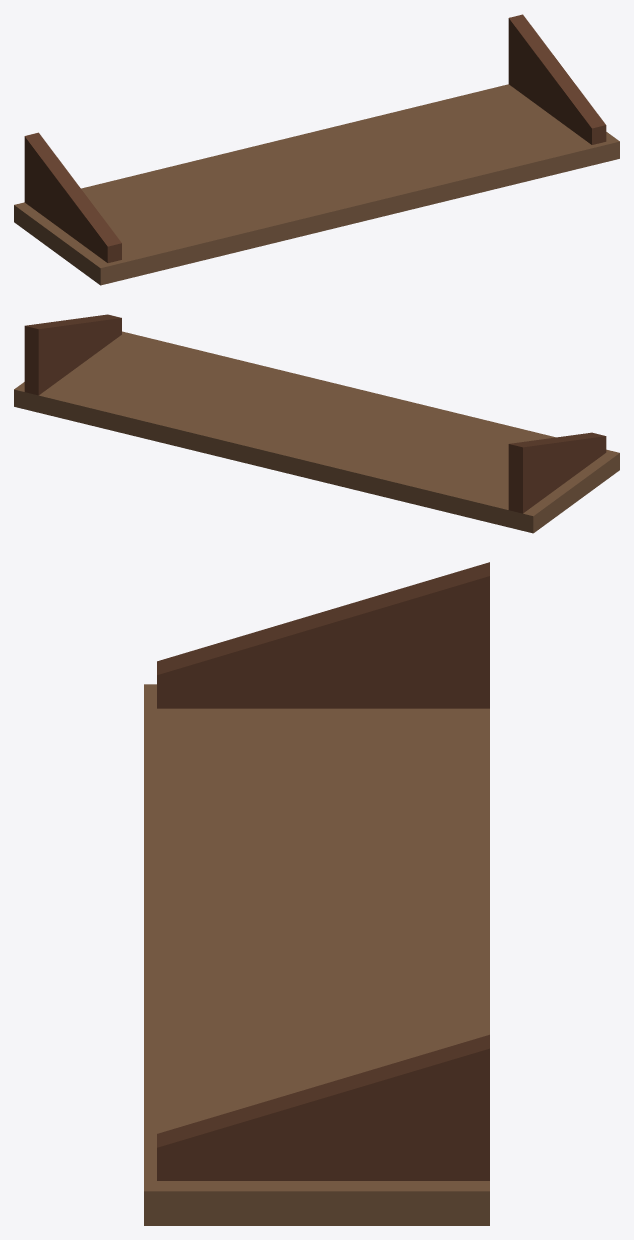
File: wall_shelf.glb
3 views of the same model, one above another, from view 1: azimuth 30°, elevation 25°; view 2: azimuth 150°, elevation 25°; view 3: azimuth 270°, elevation 25° (orthographic). The views are drawn at different scales.
Visible parts, largest first — view 1: Simple Shelf; view 2: Simple Shelf; view 3: Simple Shelf.
Boxes of the visible parts, x1=… form: Simple Shelf: x1=14, y1=14, x2=619, y2=285; Simple Shelf: x1=14, y1=314, x2=619, y2=533; Simple Shelf: x1=144, y1=562, x2=489, y2=1225.
Bounding box in the file's own units: 1 × 0.1537 × 0.2885.
1 material, 1 textured.
